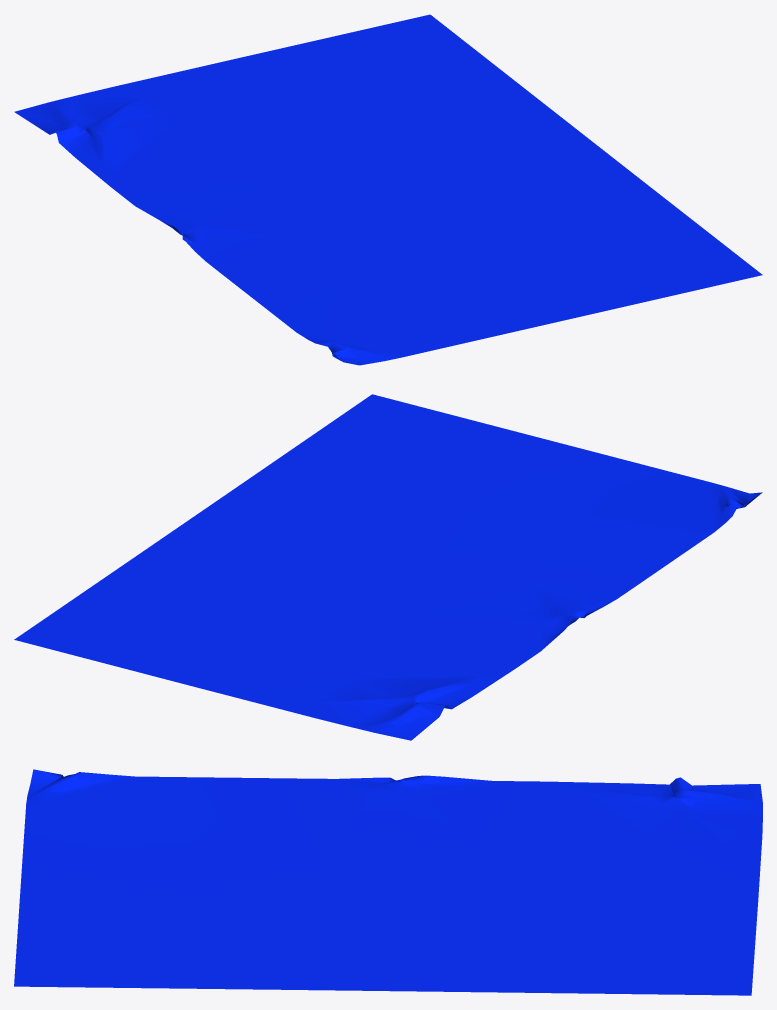
The model's file is Carpet02.fbx.
3 renders of one model, top to bottom at view 1: azimuth 30°, elevation 25°; view 2: azimuth 150°, elevation 25°; view 3: azimuth 270°, elevation 25°, orthographic. The views are drawn at different scales.
Parts seen in each view (by area): view 1: Carpet02; view 2: Carpet02; view 3: Carpet02.
Part boxes in pixels (left/top/right/bottom): Carpet02: left=14, top=14, right=762, bottom=365; Carpet02: left=14, top=394, right=762, bottom=740; Carpet02: left=14, top=769, right=762, bottom=995.
Size of the model in its own units: 83.2 by 1.45 by 120.
